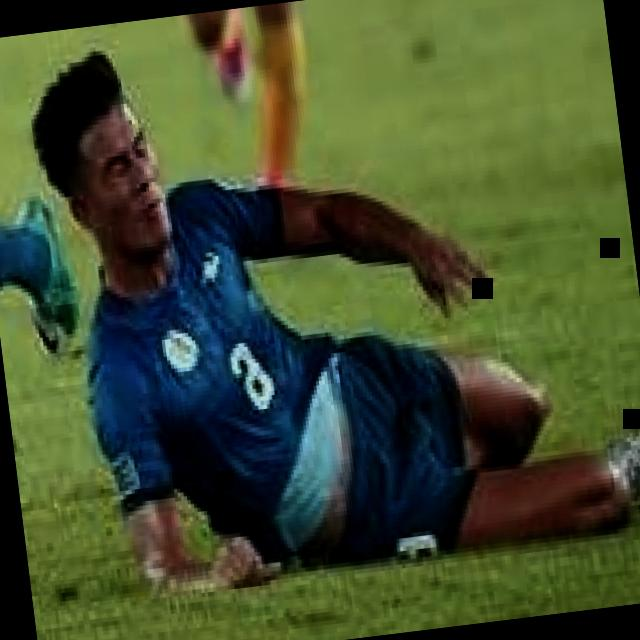Fall-Detected: (23, 0, 640, 584)
